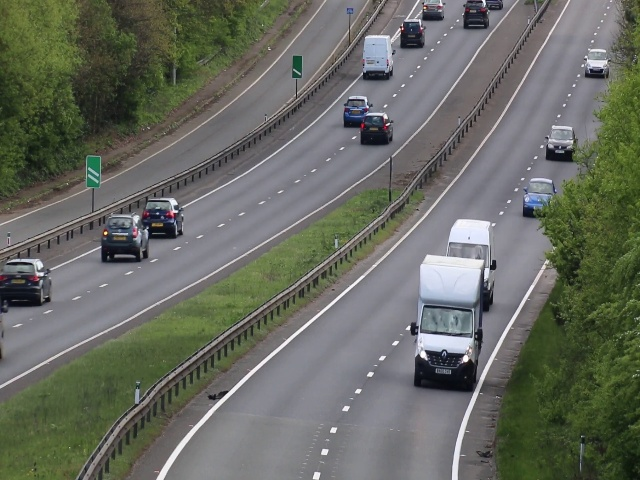car: (416, 249, 486, 392), (1, 252, 53, 305), (98, 212, 152, 262), (441, 215, 495, 258), (143, 195, 186, 237), (520, 172, 557, 220), (361, 33, 395, 77), (359, 111, 395, 145), (545, 123, 576, 162), (582, 43, 609, 82), (344, 90, 370, 126), (461, 1, 490, 30), (399, 16, 425, 48), (422, 1, 444, 19)
